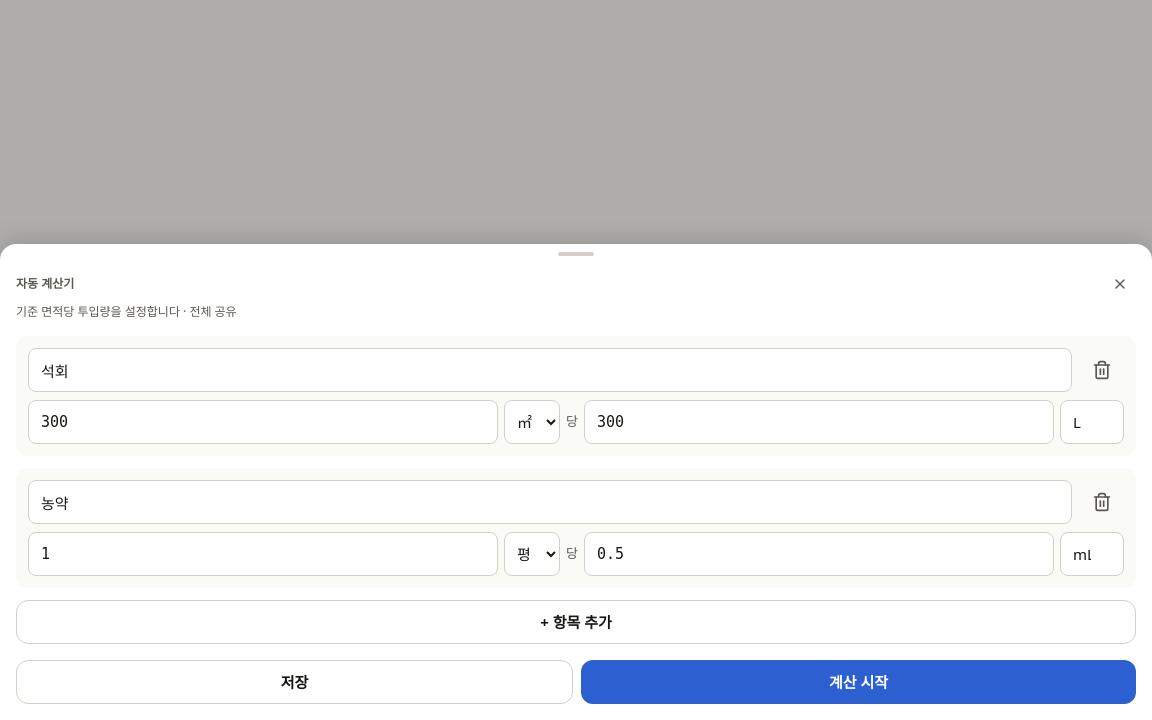
Test: AC-5: 저장 레시피 표시 + 행 추가/삭제 › "+ 항목 추가"는 기본값(300, ㎡, 0, L) 행을 추가한다
Check: the 1st field showing "석회" is shown, box [28, 348, 1072, 392]
Click the button "+ 항목 추가" at (576, 622), box [16, 600, 1136, 644]
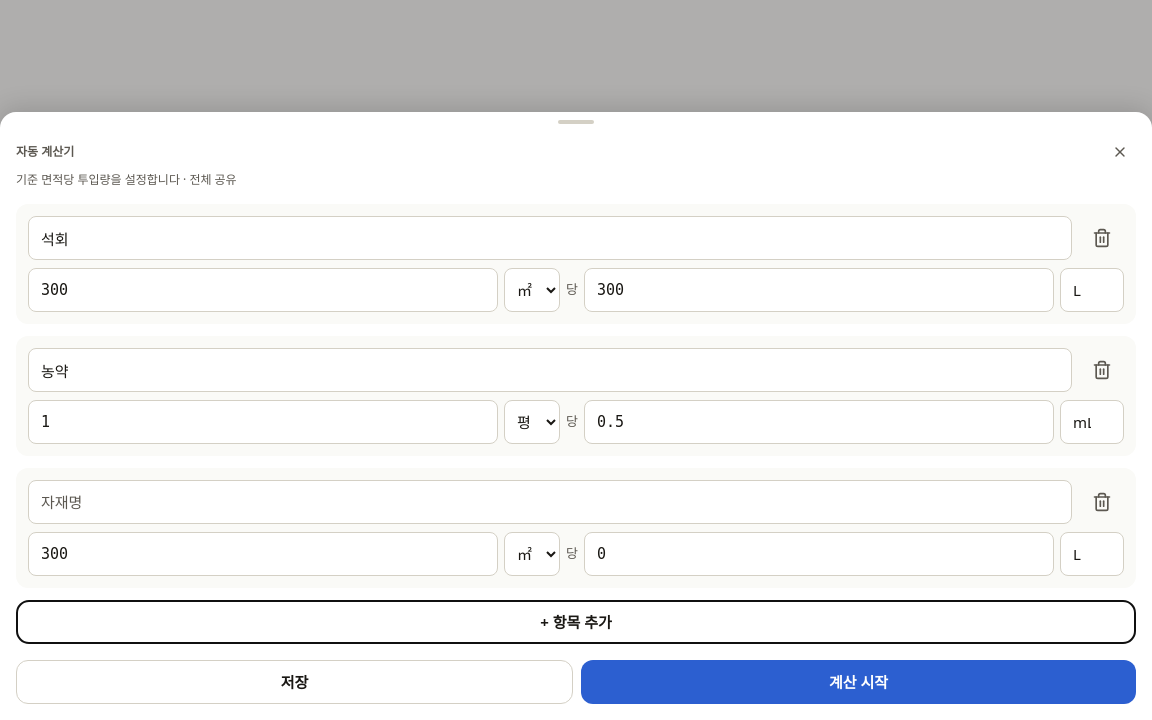
Check: the number of fields named "자재명" is 3, box [28, 216, 1072, 260]; [28, 348, 1072, 392]; [28, 480, 1072, 524]
Check: the field labelled "자재명" is empty, box [28, 480, 1072, 524]
Check: the 3rd field named "기준 면적" holds "300", box [28, 532, 498, 576]
